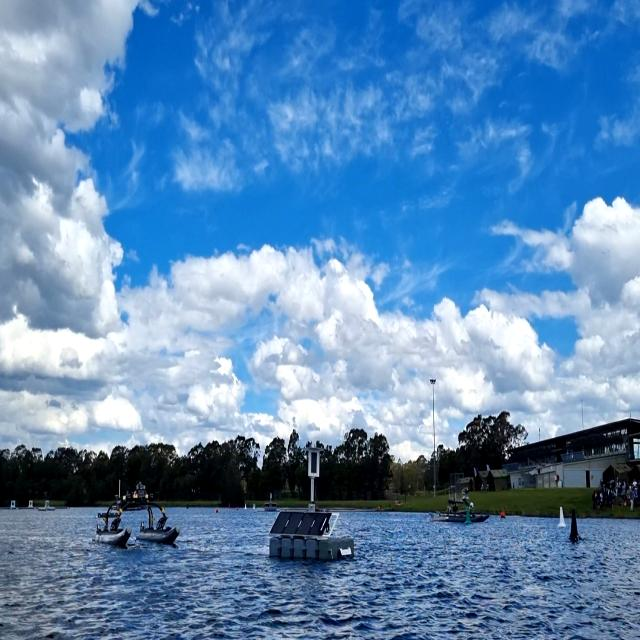led: (309, 451, 319, 476)
